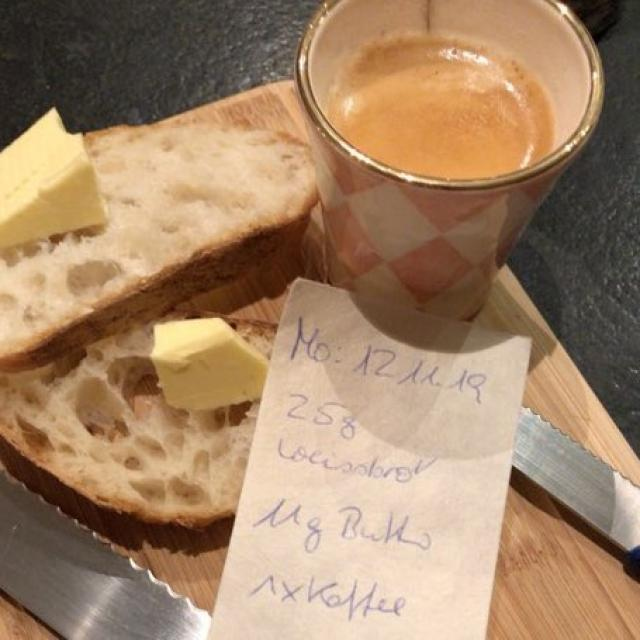bread: (7, 114, 308, 528)
coffee: (341, 47, 552, 177)
